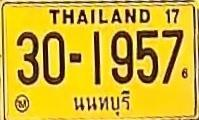0: (42, 31, 65, 85)
1: (93, 30, 100, 84)
3: (16, 31, 39, 85)
5: (136, 30, 158, 84)
7: (162, 29, 184, 84)
9: (110, 30, 133, 83)
NBI: (71, 88, 135, 118)
